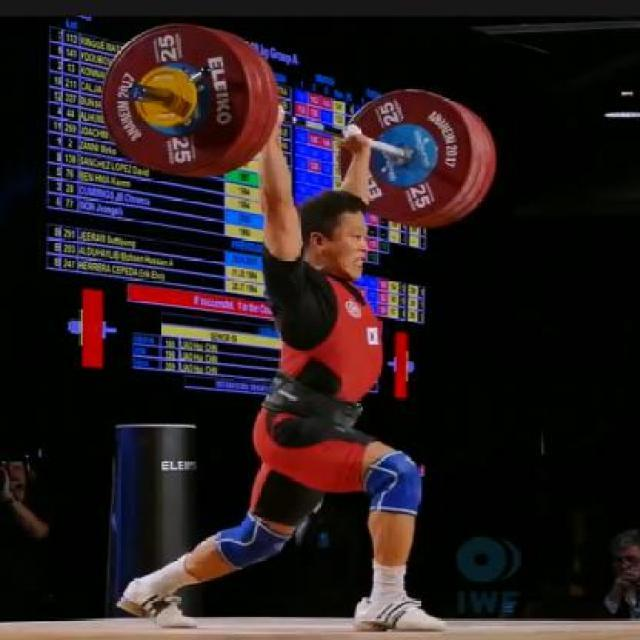barbell: (96, 14, 282, 185)
